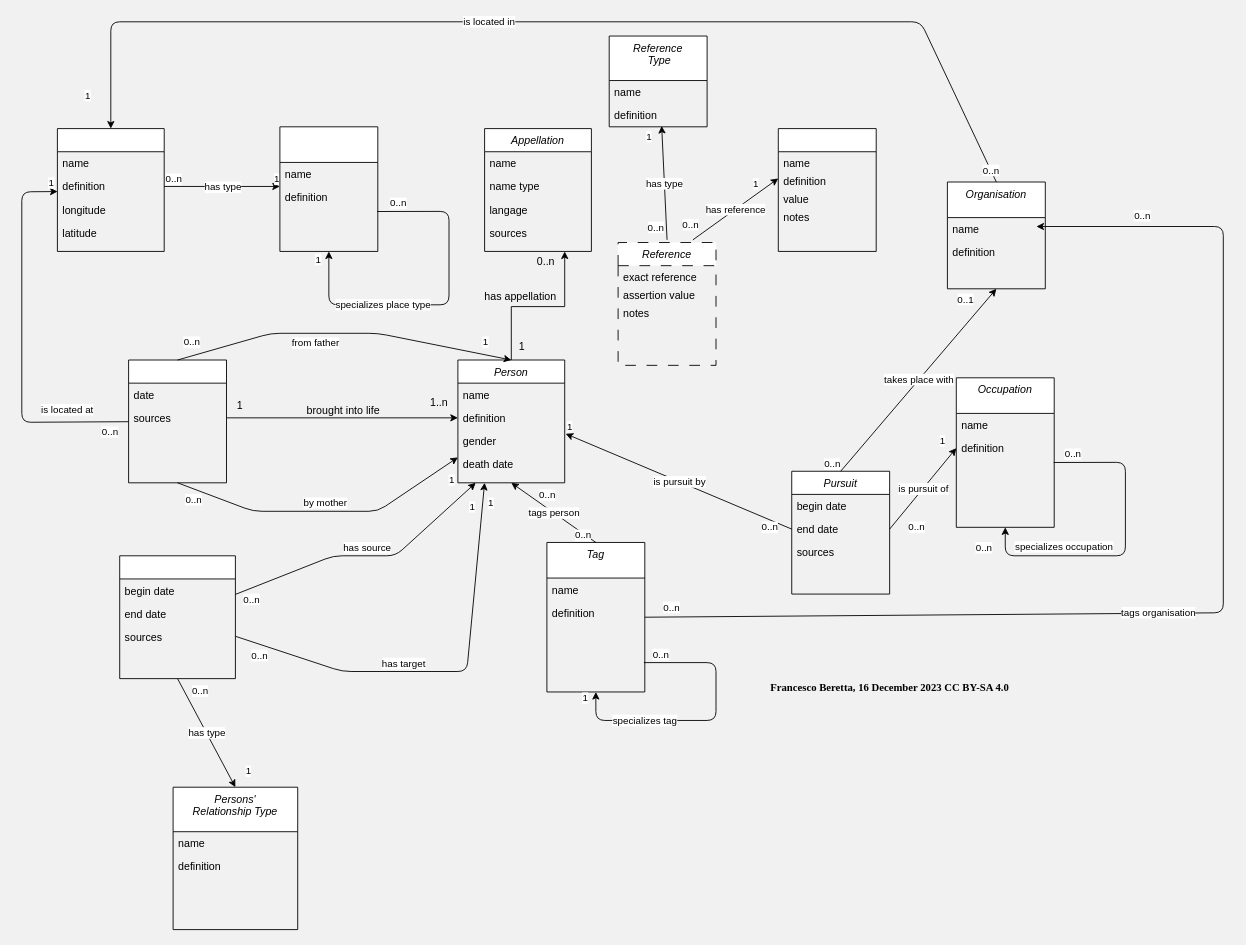
This 1246x945 diagram has some shape labels left out. Each missing label, with the box of its shape:
Birth: (128, 359, 227, 483)
Document: (777, 128, 876, 251)
Geographic place type: (279, 126, 378, 251)
Geographical place: (57, 128, 164, 251)
Persons' Relationship: (119, 555, 235, 679)
